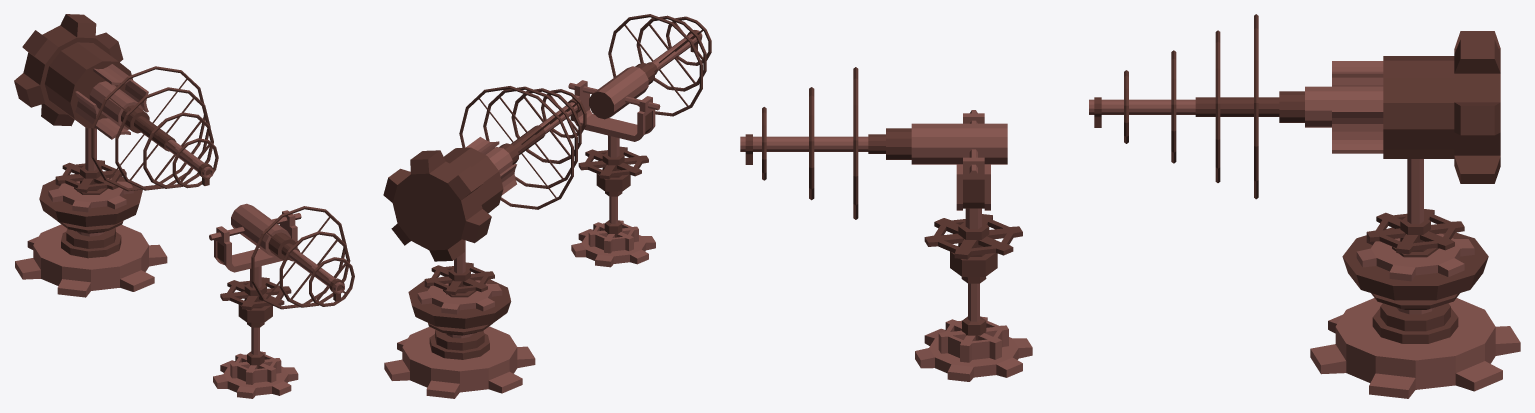
The model's file is Sub - Torret Plants Set 1.fbx.
The picture shows the model from 3 angles, left to right: view 1: azimuth 30°, elevation 25°; view 2: azimuth 150°, elevation 25°; view 3: azimuth 270°, elevation 25°; orthographic projection. The views are drawn at different scales.
Parts seen in each view (by area): view 1: Laser_2_Gun, Laser_2_Base, Laser_1_Mid, Laser_1_Base; view 2: Laser_2_Gun, Laser_2_Base, Laser_1_Mid, Laser_1_Base; view 3: Laser_2_Gun, Laser_2_Base, Laser_1_Mid, Laser_1_Base.
Part boxes in pixels (x1,y1,x2,y2): Laser_2_Gun: (14, 14, 218, 212); Laser_2_Base: (15, 174, 167, 297); Laser_1_Mid: (209, 203, 354, 368); Laser_1_Base: (213, 351, 298, 398); Laser_2_Gun: (383, 86, 586, 314); Laser_2_Base: (384, 276, 535, 398); Laser_1_Mid: (568, 14, 711, 237); Laser_1_Base: (571, 220, 655, 267); Laser_2_Gun: (1089, 14, 1500, 281); Laser_2_Base: (1310, 227, 1520, 398); Laser_1_Mid: (740, 67, 1022, 340); Laser_1_Base: (915, 316, 1032, 381).
Bounding box in the file's own units: 424 × 740 × 1573.
